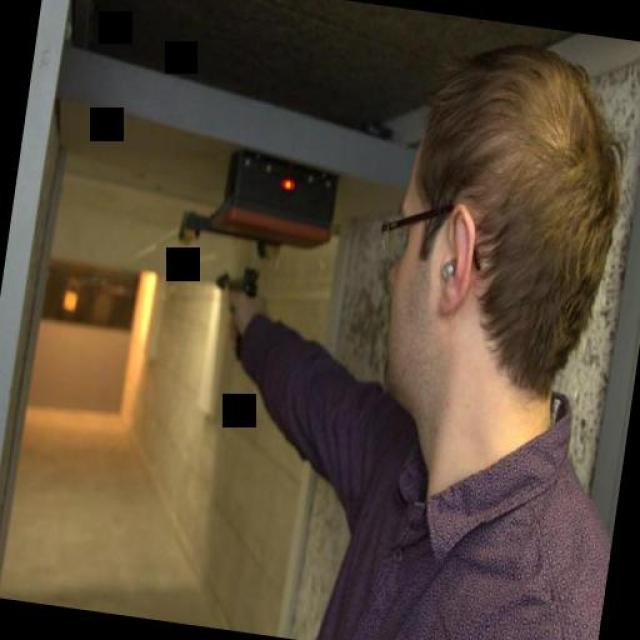gun: (202, 258, 268, 362)
